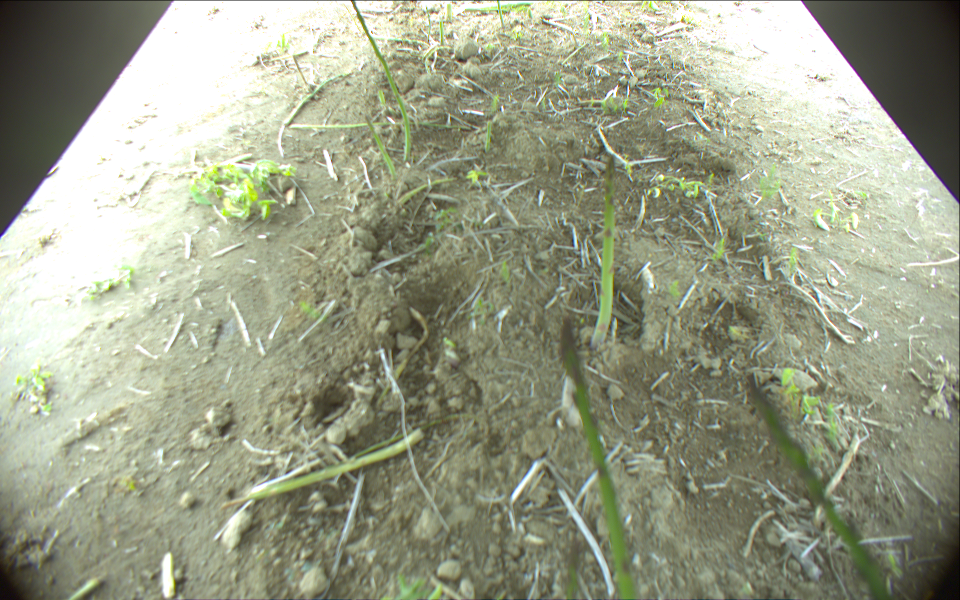aspa: (747, 374, 890, 600), (560, 319, 640, 600), (217, 428, 425, 508), (348, 1, 416, 163), (592, 155, 618, 345), (281, 68, 352, 126), (289, 119, 473, 134), (392, 175, 460, 208), (364, 116, 396, 176), (363, 33, 419, 44), (421, 3, 433, 45), (483, 118, 496, 151), (496, 1, 507, 31), (439, 18, 448, 47), (445, 2, 454, 20)
